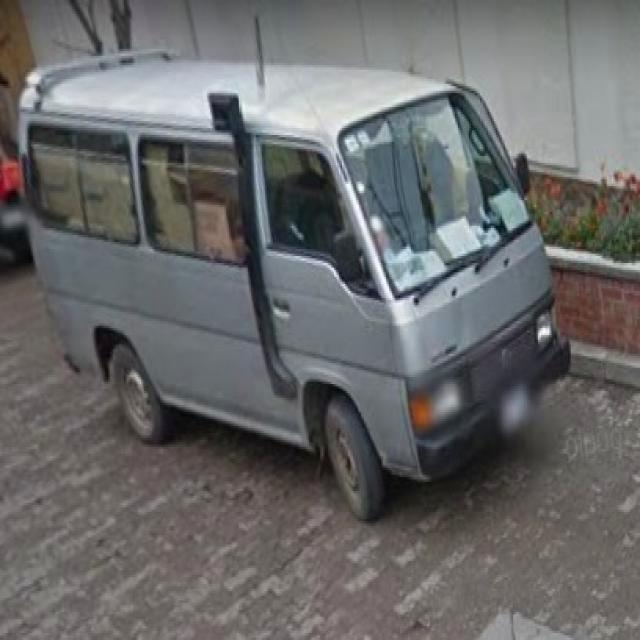Car: (16, 63, 572, 514)
